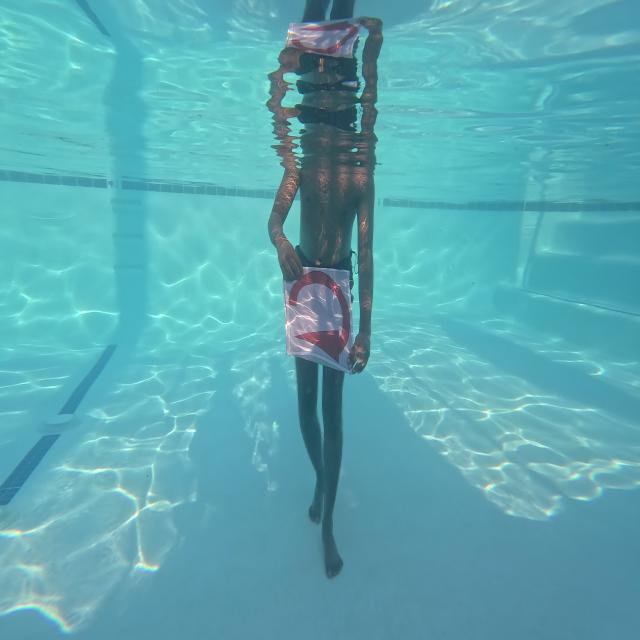red_side: (278, 251, 356, 370)
